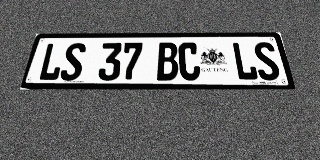3: (97, 43, 122, 81)
7: (120, 43, 143, 81)
B: (157, 43, 178, 81)
C: (178, 42, 201, 81)
L: (37, 43, 66, 81), (231, 42, 259, 80)
S: (252, 42, 282, 80), (59, 43, 87, 81)
